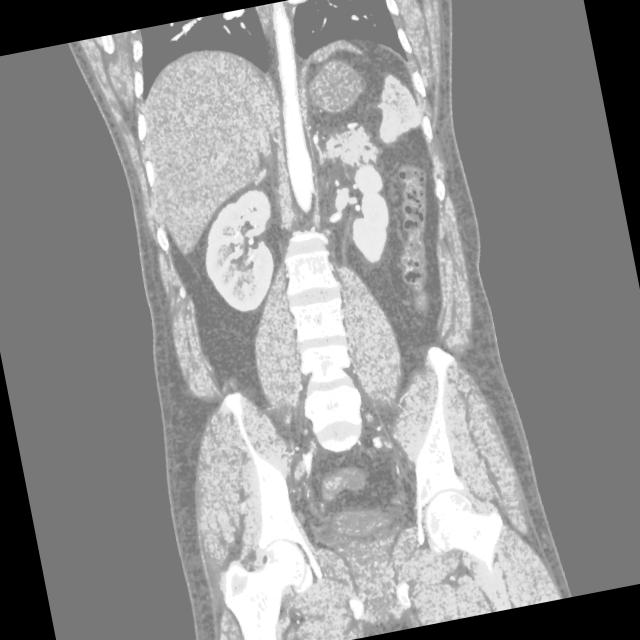NORMAL: (46, 0, 584, 582)
